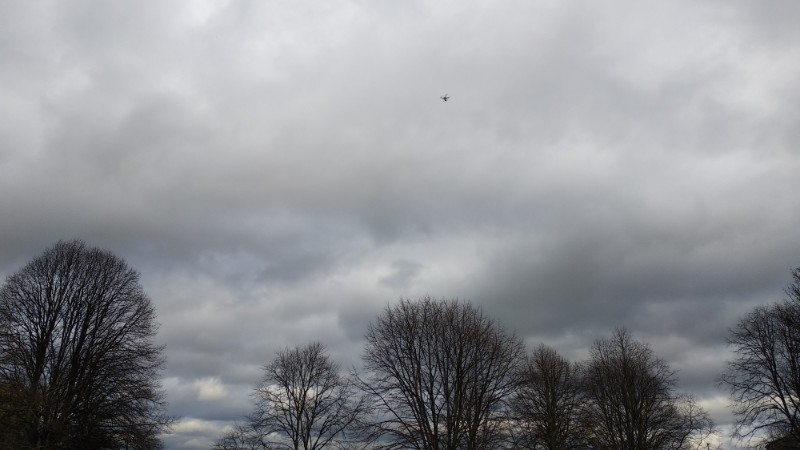drone: (440, 94, 451, 102)
